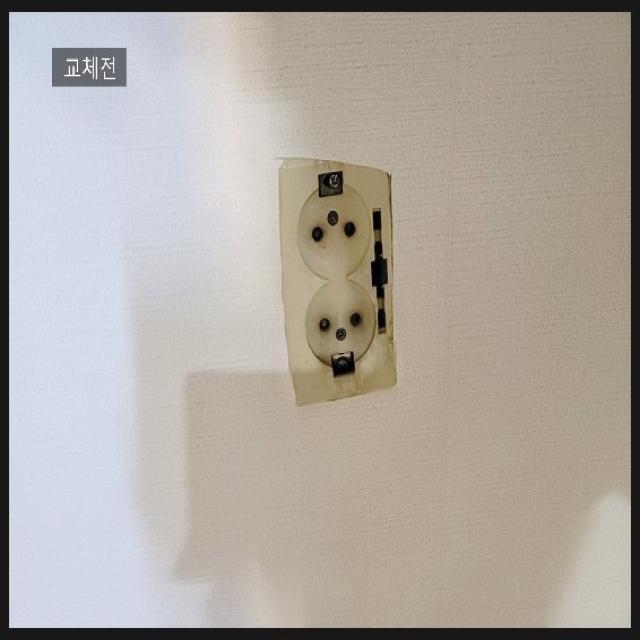typeb: (270, 148, 444, 446)
